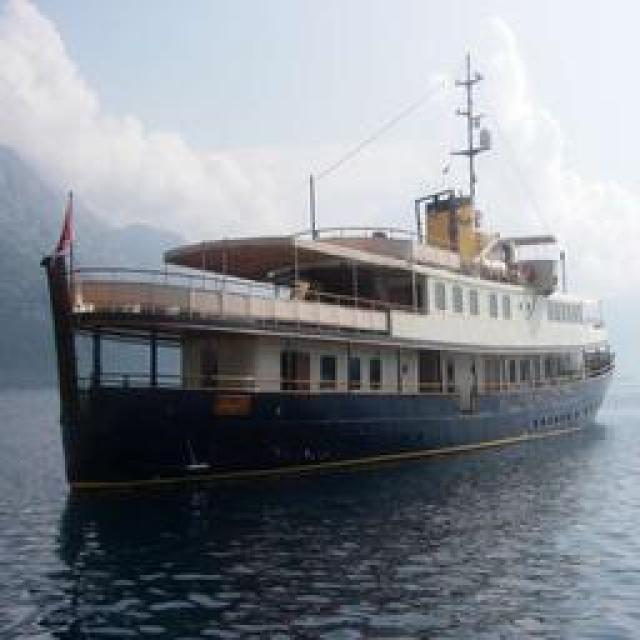ship2: (40, 52, 616, 487)
